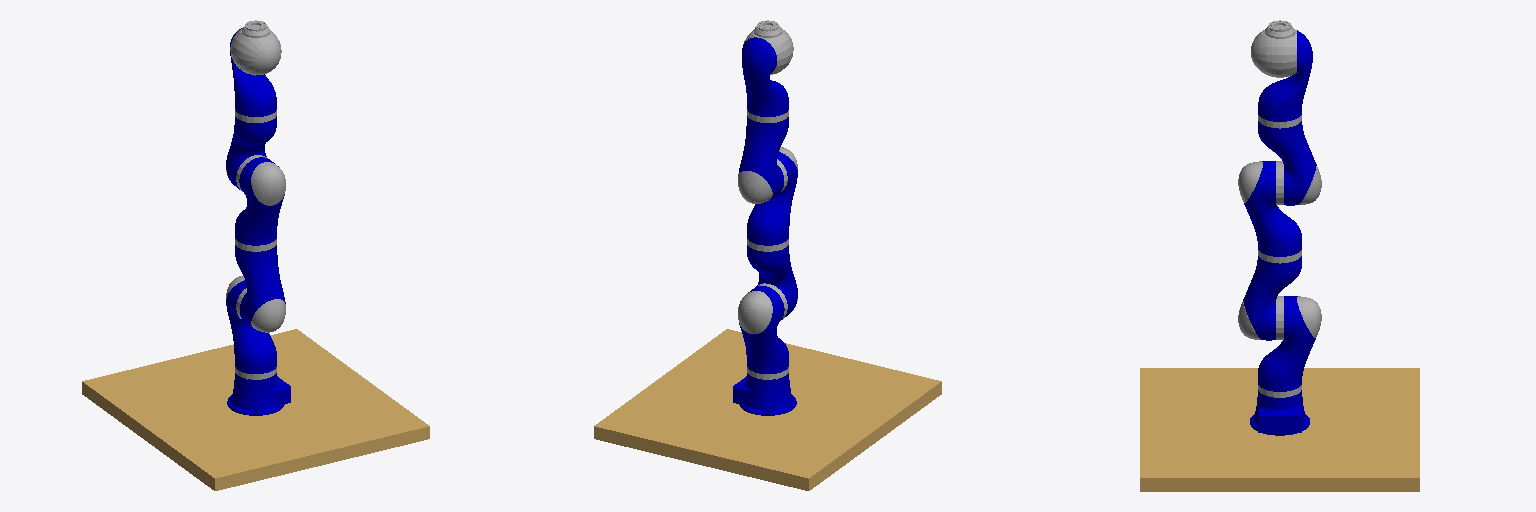
URDF robot description (lwr):
<?xml version="1.0" ?>
<!-- =================================================================================== -->
<!-- |    This document was autogenerated by xacro from lwr.urdf.xacro                 | -->
<!-- |    EDITING THIS FILE BY HAND IS NOT RECOMMENDED                                 | -->
<!-- =================================================================================== -->
<robot name="lwr" xmlns:controller="http://playerstage.sourceforge.net/gazebo/xmlschema/#controller" xmlns:interface="http://playerstage.sourceforge.net/gazebo/xmlschema/#interface" xmlns:sensor="http://playerstage.sourceforge.net/gazebo/xmlschema/#sensor" xmlns:xacro="http://www.ros.org/wiki/xacro">
  <gazebo>
    <plugin filename="librtt_gazebo_plugin.so" name="rtt_gazebo">
      <opsScript>
        import(&quot;rtt_ros&quot;);
        ros.import(&quot;rtt_roscomm&quot;);
        ros.import(&quot;rtt_rosparam&quot;);
        ros.import(&quot;rtt_sensor_msgs&quot;);
        ros.import(&quot;lwr_simulation&quot;);
        ros.import(&quot;oro_joint_state_publisher&quot;);
        
        loadComponent(&quot;FRI&quot;,&quot;LWRController&quot;);
        loadComponent(&quot;joints&quot;,&quot;JointStatePublisher&quot;);
        
        loadService(&quot;FRI&quot;,&quot;rosparam&quot;);
        loadService(&quot;joints&quot;,&quot;rosparam&quot;);
        
        setActivity(&quot;FRI&quot;, 0.0, 5, ORO_SCHED_RT);
        setActivity(&quot;joints&quot;, 0.02, 5, ORO_SCHED_RT);
        
        connect(&quot;FRI.JointPosition&quot;,&quot;joints.msrJntPos&quot;, ConnPolicy());
        stream(&quot;joints.joints_state&quot;, rostopic.connection(&quot;/joints_state&quot;));
        
        joints.rosparam.refreshProperties();
        joints.configure();
        joints.start();
      </opsScript>
      <component>FRI</component>
    </plugin>
  </gazebo>
  <material name="DarkGrey">
    <color rgba="0.3 0.3 0.3 1.0"/>
  </material>
  <material name="Red">
    <color rgba="0.3 0.3 0.3 1.0"/>
  </material>
  <material name="Black">
    <color rgba="0 0 0 1.0"/>
  </material>
  <material name="Orange">
    <color rgba="1.0 0.487 0 1.0"/>
  </material>
  <material name="Silver">
    <color rgba="1.0 1.0 1.0 1.0"/>
  </material>
  <material name="Grey">
    <color rgba="0.7 0.7 0.7 1.0"/>
  </material>
  <material name="Blue">
    <color rgba="0.0 0.0 0.8 1.0"/>
  </material>
  <material name="HandGray">
    <color rgba="0.953 0.996 0.694 1.0"/>
  </material>
  <material name="SickBlue">
    <color rgba="0.3058 0.5921 0.7294 1.0"/>
  </material>
  <link name="table">
    <visual>
      <origin rpy="0 0 0" xyz="0 0 -0.02"/>
      <geometry>
        <box size="0.7 0.75 0.04"/>
      </geometry>
      <material name="table_brown">
        <!-- wooden brown table -->
        <color rgba="0.839215686 0.694117647 0.42745098 1.0"/>
      </material>
    </visual>
    <collision>
      <origin rpy="0 0 0" xyz="0 0 -0.02"/>
      <geometry>
        <box size="0.7 0.75 0.04"/>
      </geometry>
    </collision>
  </link>
  <gazebo reference="table">
    <!-- Gazebo wood texture -->
    <material>Gazebo/Wood</material>
  </gazebo>
  <joint name="table_lwr_arm_base_joint" type="fixed">
    <origin rpy="0 0 0" xyz="0 0 0"/>
    <parent link="table"/>
    <child link="base"/>
  </joint>
  <link name="base">
    <inertial>
      <mass value="2.0"/>
      <origin xyz="0 0 0.055"/>
      <inertia ixx="0.00381666666667" ixy="0" ixz="0" iyy="0.0036" iyz="0" izz="0.00381666666667"/>
    </inertial>
    <visual>
      <origin rpy="0 0 3.14159265359" xyz="0 0 0"/>
      <geometry>
        <mesh filename="package://kuka_lwr4_description/meshes/kuka_colour/base.dae"/>
      </geometry>
      <material name="Blue"/>
    </visual>
    <collision>
      <origin rpy="0 0 0" xyz="0.04 0 0.03"/>
      <geometry>
        <box size="0.08 0.12 0.06"/>
      </geometry>
    </collision>
    <collision>
      <origin rpy="0 0 0" xyz="0 0 0.05"/>
      <geometry>
        <cylinder length="0.1" radius="0.06"/>
      </geometry>
    </collision>
  </link>
  <gazebo reference="calib_lwr_arm_base_link">
    <turnGravityOff>true</turnGravityOff>
  </gazebo>
  <joint name="lwr_arm_0_joint" type="revolute">
    <origin rpy="0 0 3.14159265359" xyz="0 0 0.11"/>
    <axis xyz="0 0 1"/>
    <limit effort="176" lower="-2.96705972839" upper="2.96705972839" velocity="1.91986217719"/>
    <safety_controller k_position="30" k_velocity="30" soft_lower_limit="-2.93215314335" soft_upper_limit="2.93215314335"/>
    <dynamics damping="1.0"/>
    <parent link="base"/>
    <child link="lwr_arm_1_link"/>
  </joint>
  <link name="lwr_arm_1_link">
    <inertial>
      <mass value="2.0"/>
      <origin rpy="0 0 0" xyz="0 -0.06 0.130"/>
      <inertia ixx="0.0136666666667" ixy="0" ixz="0" iyy="0.003" iyz="0" izz="0.0118666666667"/>
    </inertial>
    <visual>
      <origin rpy="0 0 4.71238898038" xyz="0 0 0.2"/>
      <geometry>
        <mesh filename="package://kuka_lwr4_description/meshes/kuka_colour/link1.dae"/>
      </geometry>
      <material name="Blue"/>
    </visual>
    <visual>
      <origin rpy="0 0 4.71238898038" xyz="0 0 0.2"/>
      <geometry>
        <mesh filename="package://kuka_lwr4_description/meshes/kuka_colour/link1_m.dae"/>
      </geometry>
      <material name="Grey"/>
    </visual>
    <visual>
      <origin rpy="0 0 0" xyz="0 0 0"/>
      <geometry>
        <mesh filename="package://kuka_lwr4_description/meshes/kuka_colour/kuka_ring.dae"/>
      </geometry>
      <material name="Grey"/>
    </visual>
    <collision>
      <origin rpy="0 0 0" xyz="0 0 0.05"/>
      <geometry>
        <cylinder length="0.1" radius="0.06"/>
      </geometry>
    </collision>
    <collision>
      <origin rpy="0 0 0" xyz="0 -0.04 0.2"/>
      <geometry>
        <sphere radius="0.06"/>
      </geometry>
    </collision>
  </link>
  <gazebo reference="lwr_arm_1_link">
    <gravity>0</gravity>
  </gazebo>
  <transmission name="lwr_arm_0_trans" type="SimpleTransmission">
    <actuator name="lwr_arm_0_motor"/>
    <joint name="lwr_arm_0_joint"/>
    <mechanicalReduction>1.0</mechanicalReduction>
  </transmission>
  <!-- Third segment of the arm. Joint along y-axis -->
  <joint name="lwr_arm_1_joint" type="revolute">
    <origin rpy="0 0 0" xyz="0 0 0.2"/>
    <axis xyz="0 1 0"/>
    <limit effort="176" lower="-2.09439510239" upper="2.09439510239" velocity="1.91986217719"/>
    <safety_controller k_position="30" k_velocity="30" soft_lower_limit="-2.05948851735" soft_upper_limit="2.05948851735"/>
    <dynamics damping="1.0" friction="10"/>
    <parent link="lwr_arm_1_link"/>
    <child link="lwr_arm_2_link"/>
  </joint>
  <link name="lwr_arm_2_link">
    <inertial>
      <mass value="2.0"/>
      <origin rpy="0 0 0" xyz="0 0.06 0.07"/>
      <inertia ixx="0.0136666666667" ixy="0" ixz="0" iyy="0.003" iyz="0" izz="0.0118666666667"/>
    </inertial>
    <visual>
      <origin rpy="0 0 4.71238898038" xyz="0 0 0"/>
      <geometry>
        <mesh filename="package://kuka_lwr4_description/meshes/kuka_colour/link2.dae"/>
      </geometry>
      <material name="Blue"/>
    </visual>
    <visual>
      <origin rpy="0 0 4.71238898038" xyz="0 0 0"/>
      <geometry>
        <mesh filename="package://kuka_lwr4_description/meshes/kuka_colour/link2_m.dae"/>
      </geometry>
      <material name="Grey"/>
    </visual>
    <visual>
      <origin rpy="1.57079632679 0 0" xyz="0 0 0"/>
      <geometry>
        <mesh filename="package://kuka_lwr4_description/meshes/kuka_colour/kuka_ring.dae"/>
      </geometry>
      <material name="Grey"/>
    </visual>
    <collision>
      <origin rpy="0 0 0" xyz="0 0 0.15"/>
      <geometry>
        <cylinder length="0.1" radius="0.06"/>
      </geometry>
    </collision>
    <collision>
      <origin rpy="0 0 0" xyz="0 0.04 0"/>
      <geometry>
        <sphere radius="0.06"/>
      </geometry>
    </collision>
  </link>
  <gazebo reference="lwr_arm_2_link">
    <gravity>0</gravity>
  </gazebo>
  <transmission name="lwr_arm_1_trans" type="SimpleTransmission">
    <actuator name="lwr_arm_1_motor"/>
    <joint name="lwr_arm_1_joint"/>
    <mechanicalReduction>1.0</mechanicalReduction>
  </transmission>
  <joint name="lwr_arm_2_joint" type="revolute">
    <origin rpy="0 0 0" xyz="0 0 0.20"/>
    <axis xyz="0 0 1"/>
    <limit effort="100" lower="-2.96705972839" upper="2.96705972839" velocity="2.26892802759"/>
    <safety_controller k_position="30" k_velocity="30" soft_lower_limit="-2.93215314335" soft_upper_limit="2.93215314335"/>
    <dynamics damping="1.0"/>
    <parent link="lwr_arm_2_link"/>
    <child link="lwr_arm_3_link"/>
  </joint>
  <link name="lwr_arm_3_link">
    <inertial>
      <mass value="2.0"/>
      <origin rpy="0 0 0" xyz="0 0.06 0.130"/>
      <inertia ixx="0.0136666666667" ixy="0" ixz="0" iyy="0.003" iyz="0" izz="0.0118666666667"/>
    </inertial>
    <visual>
      <origin rpy="0 0 4.71238898038" xyz="0 0 0.2"/>
      <geometry>
        <mesh filename="package://kuka_lwr4_description/meshes/kuka_colour/link3.dae"/>
      </geometry>
      <material name="Blue"/>
    </visual>
    <visual>
      <origin rpy="0 0 4.71238898038" xyz="0 0 0.2"/>
      <geometry>
        <mesh filename="package://kuka_lwr4_description/meshes/kuka_colour/link3_m.dae"/>
      </geometry>
      <material name="Grey"/>
    </visual>
    <visual>
      <origin rpy="0 0 0" xyz="0 0 0"/>
      <geometry>
        <mesh filename="package://kuka_lwr4_description/meshes/kuka_colour/kuka_ring.dae"/>
      </geometry>
      <material name="Grey"/>
    </visual>
    <collision>
      <origin rpy="0 0 0" xyz="0 0 0.05"/>
      <geometry>
        <cylinder length="0.1" radius="0.06"/>
      </geometry>
    </collision>
    <collision>
      <origin rpy="0 0 0" xyz="0 0.04 0.2"/>
      <geometry>
        <sphere radius="0.06"/>
      </geometry>
    </collision>
  </link>
  <gazebo reference="lwr_arm_3_link">
    <turnGravityOff>true</turnGravityOff>
  </gazebo>
  <transmission name="lwr_arm_2_trans" type="SimpleTransmission">
    <actuator name="lwr_arm_2_motor"/>
    <joint name="lwr_arm_2_joint"/>
    <mechanicalReduction>1.0</mechanicalReduction>
  </transmission>
  <!-- fifth element of the arm. x-axis -->
  <joint name="lwr_arm_3_joint" type="revolute">
    <origin rpy="0 0 0" xyz="0 0 0.20"/>
    <axis xyz="0 -1 0"/>
    <limit effort="100" lower="-2.09439510239" upper="2.09439510239" velocity="2.26892802759"/>
    <safety_controller k_position="30" k_velocity="30" soft_lower_limit="-2.05948851735" soft_upper_limit="2.05948851735"/>
    <dynamics damping="1.0"/>
    <parent link="lwr_arm_3_link"/>
    <child link="lwr_arm_4_link"/>
  </joint>
  <link name="lwr_arm_4_link">
    <inertial>
      <mass value="2.0"/>
      <origin rpy="0 0 0" xyz="0 -0.06 0.07"/>
      <inertia ixx="0.0136666666667" ixy="0" ixz="0" iyy="0.003" iyz="0" izz="0.0118666666667"/>
    </inertial>
    <visual>
      <origin rpy="0 0 4.71238898038" xyz="0 0 0"/>
      <geometry>
        <mesh filename="package://kuka_lwr4_description/meshes/kuka_colour/link4.dae"/>
      </geometry>
      <material name="Blue"/>
    </visual>
    <visual>
      <origin rpy="0 0 4.71238898038" xyz="0 0 0"/>
      <geometry>
        <mesh filename="package://kuka_lwr4_description/meshes/kuka_colour/link4_m.dae"/>
      </geometry>
      <material name="Grey"/>
    </visual>
    <visual>
      <origin rpy="1.57079632679 0 0" xyz="0 0 0"/>
      <geometry>
        <mesh filename="package://kuka_lwr4_description/meshes/kuka_colour/kuka_ring.dae"/>
      </geometry>
      <material name="Grey"/>
    </visual>
    <collision>
      <origin rpy="0 0 0" xyz="0 0 0.15"/>
      <geometry>
        <cylinder length="0.1" radius="0.06"/>
      </geometry>
    </collision>
    <collision>
      <origin rpy="0 0 0" xyz="0 -0.04 0"/>
      <geometry>
        <sphere radius="0.06"/>
      </geometry>
    </collision>
  </link>
  <gazebo reference="lwr_arm_4_link">
    <turnGravityOff>true</turnGravityOff>
  </gazebo>
  <transmission name="lwr_arm_3_trans" type="SimpleTransmission">
    <actuator name="lwr_arm_3_motor"/>
    <joint name="lwr_arm_3_joint"/>
    <mechanicalReduction>1.0</mechanicalReduction>
  </transmission>
  <joint name="lwr_arm_4_joint" type="revolute">
    <origin rpy="0 0 0" xyz="0 0 0.20"/>
    <axis xyz="0 0 1"/>
    <limit effort="100" lower="-2.96705972839" upper="2.96705972839" velocity="2.26892802759"/>
    <safety_controller k_position="30" k_velocity="30" soft_lower_limit="-2.93215314335" soft_upper_limit="2.93215314335"/>
    <dynamics damping="1.0"/>
    <parent link="lwr_arm_4_link"/>
    <child link="lwr_arm_5_link"/>
  </joint>
  <link name="lwr_arm_5_link">
    <inertial>
      <mass value="2.0"/>
      <origin rpy="0 0 0" xyz="0 0 0.124"/>
      <inertia ixx="0.0126506666667" ixy="0" ixz="0" iyy="0.003" iyz="0" izz="0.0108506666667"/>
    </inertial>
    <visual>
      <origin rpy="0 0 4.71238898038" xyz="0 0 0.19"/>
      <geometry name="lwr_arm_5_geom">
        <mesh filename="package://kuka_lwr4_description/meshes/kuka_colour/link5.dae"/>
      </geometry>
      <material name="Blue"/>
    </visual>
    <visual>
      <origin rpy="0 0 0" xyz="0 0 0"/>
      <geometry>
        <mesh filename="package://kuka_lwr4_description/meshes/kuka_colour/kuka_ring.dae"/>
      </geometry>
      <material name="Grey"/>
    </visual>
    <collision>
      <origin rpy="0 0 0" xyz="0 0 0.05"/>
      <geometry>
        <cylinder length="0.1" radius="0.06"/>
      </geometry>
    </collision>
    <collision>
      <origin rpy="0 0 0" xyz="0 -0.04 0.2"/>
      <geometry>
        <sphere radius="0.06"/>
      </geometry>
    </collision>
  </link>
  <gazebo reference="lwr_arm_5_link">
    <turnGravityOff>true</turnGravityOff>
  </gazebo>
  <transmission name="lwr_arm_4_trans" type="SimpleTransmission">
    <actuator name="lwr_arm_4_motor"/>
    <joint name="lwr_arm_4_joint"/>
    <mechanicalReduction>1.0</mechanicalReduction>
  </transmission>
  <joint name="lwr_arm_5_joint" type="revolute">
    <origin rpy="0 0 0" xyz="0 0 0.19"/>
    <axis xyz="0 1 0"/>
    <limit effort="38" lower="-2.09439510239" upper="2.09439510239" velocity="3.14159265359"/>
    <safety_controller k_position="30" k_velocity="30" soft_lower_limit="-2.05948851735" soft_upper_limit="2.05948851735"/>
    <dynamics damping="1.0"/>
    <parent link="lwr_arm_5_link"/>
    <child link="lwr_arm_6_link"/>
  </joint>
  <link name="lwr_arm_6_link">
    <inertial>
      <mass value="0.2"/>
      <origin rpy="0 0 0" xyz="0 0 0.0625"/>
      <inertia ixx="0.000520833333333" ixy="0" ixz="0" iyy="0.000520833333333" iyz="0" izz="0.000520833333333"/>
    </inertial>
    <visual>
      <origin rpy="0 0 3.14159265359" xyz="0 0 0"/>
      <geometry>
        <mesh filename="package://kuka_lwr4_description/meshes/kuka_colour/kuka_wrist.dae"/>
      </geometry>
      <material name="Grey"/>
    </visual>
    <collision>
      <origin rpy="0 0 0" xyz="0 0.01 0"/>
      <geometry>
        <sphere radius="0.07"/>
      </geometry>
      <material name="Grey"/>
    </collision>
    <collision>
      <origin rpy="0 0 0" xyz="0 -0.01 0"/>
      <geometry>
        <sphere radius="0.07"/>
      </geometry>
    </collision>
  </link>
  <gazebo reference="lwr_arm_6_link">
    <turnGravityOff>true</turnGravityOff>
  </gazebo>
  <transmission name="lwr_arm_5_trans" type="SimpleTransmission">
    <actuator name="lwr_arm_5_motor"/>
    <joint name="lwr_arm_5_joint"/>
    <mechanicalReduction>1.0</mechanicalReduction>
  </transmission>
  <joint name="lwr_arm_6_joint" type="revolute">
    <origin rpy="0 0 3.14159265359" xyz="0 0 0.078"/>
    <axis xyz="0 0 1"/>
    <limit effort="38" lower="-2.96705972839" upper="2.96705972839" velocity="3.14159265359"/>
    <safety_controller k_position="30" k_velocity="30" soft_lower_limit="-2.93215314335" soft_upper_limit="2.93215314335"/>
    <dynamics damping="1.0"/>
    <parent link="lwr_arm_6_link"/>
    <child link="lwr_arm_7_link"/>
  </joint>
  <link name="lwr_arm_7_link">
    <inertial>
      <mass value="0.2"/>
      <origin xyz="0 0 0"/>
      <inertia ixx="0.0333333333333" ixy="0" ixz="0" iyy="0.0333333333333" iyz="0" izz="0.0333333333333"/>
    </inertial>
    <visual>
      <origin rpy="0 0 0" xyz="0 0 0"/>
      <geometry>
        <mesh filename="package://kuka_lwr4_description/meshes/kuka_colour/link7.dae"/>
      </geometry>
      <material name="Grey"/>
    </visual>
    <collision>
      <origin rpy="0 0 -0.785398163397" xyz="0 0 0"/>
      <geometry>
        <cylinder length="0.05" radius="0.04"/>
      </geometry>
    </collision>
  </link>
  <gazebo reference="lwr_arm_7_link">
    <turnGravityOff>true</turnGravityOff>
  </gazebo>
  <transmission name="lwr_arm_6_trans" type="SimpleTransmission">
    <actuator name="lwr_arm_6_motor"/>
    <joint name="lwr_arm_6_joint"/>
    <mechanicalReduction>1.0</mechanicalReduction>
  </transmission>
</robot>

--- What the picture shows (computed from the rendered views, not written in the file) ---
3 views of the same robot in one strip: view 1: azimuth 30°, elevation 25°; view 2: azimuth 150°, elevation 25°; view 3: azimuth 270°, elevation 25° (orthographic).
Robot: lwr — 9 links, 8 joints (7 revolute, 1 fixed); root link table; default pose: all joints at 0.
Visible links, largest first — view 1: table, lwr_arm_3_link, lwr_arm_2_link, lwr_arm_1_link, base, lwr_arm_5_link, lwr_arm_4_link, lwr_arm_6_link; view 2: table, lwr_arm_1_link, lwr_arm_4_link, lwr_arm_5_link, lwr_arm_3_link, base, lwr_arm_2_link, lwr_arm_6_link; view 3: table, lwr_arm_3_link, lwr_arm_1_link, lwr_arm_4_link, lwr_arm_2_link, lwr_arm_5_link, base, lwr_arm_6_link.
Boxes of the visible links, x1,y1,x2,y2 form: table: (82, 329, 429, 490); lwr_arm_3_link: (235, 157, 285, 251); lwr_arm_2_link: (235, 245, 285, 332); lwr_arm_1_link: (226, 276, 276, 379); base: (227, 373, 290, 415); lwr_arm_5_link: (230, 28, 276, 122); lwr_arm_4_link: (226, 116, 276, 191); lwr_arm_6_link: (230, 29, 281, 75); table: (594, 329, 941, 490); lwr_arm_1_link: (738, 286, 788, 379); lwr_arm_4_link: (738, 116, 788, 203); lwr_arm_5_link: (742, 37, 788, 122); lwr_arm_3_link: (747, 147, 797, 251); base: (733, 373, 796, 415); lwr_arm_2_link: (747, 245, 797, 319); lwr_arm_6_link: (743, 29, 793, 74); table: (1140, 368, 1419, 491); lwr_arm_3_link: (1238, 161, 1301, 263); lwr_arm_1_link: (1258, 296, 1321, 397); lwr_arm_4_link: (1258, 121, 1321, 205); lwr_arm_2_link: (1238, 256, 1301, 340); lwr_arm_5_link: (1258, 30, 1312, 128); base: (1250, 390, 1309, 435); lwr_arm_6_link: (1251, 30, 1296, 77).
Bounding box of the posed robot: 0.7 × 0.75 × 1.22 m (x, y, z).
Meshes: 13 distinct files referenced, 17 mesh visuals loaded (13 Collada DAE).